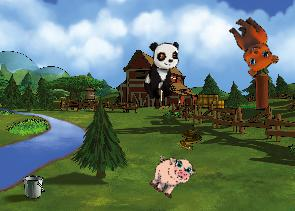bear: (216, 11, 285, 81)
panda: (142, 39, 181, 102)
pig: (144, 148, 198, 203)
